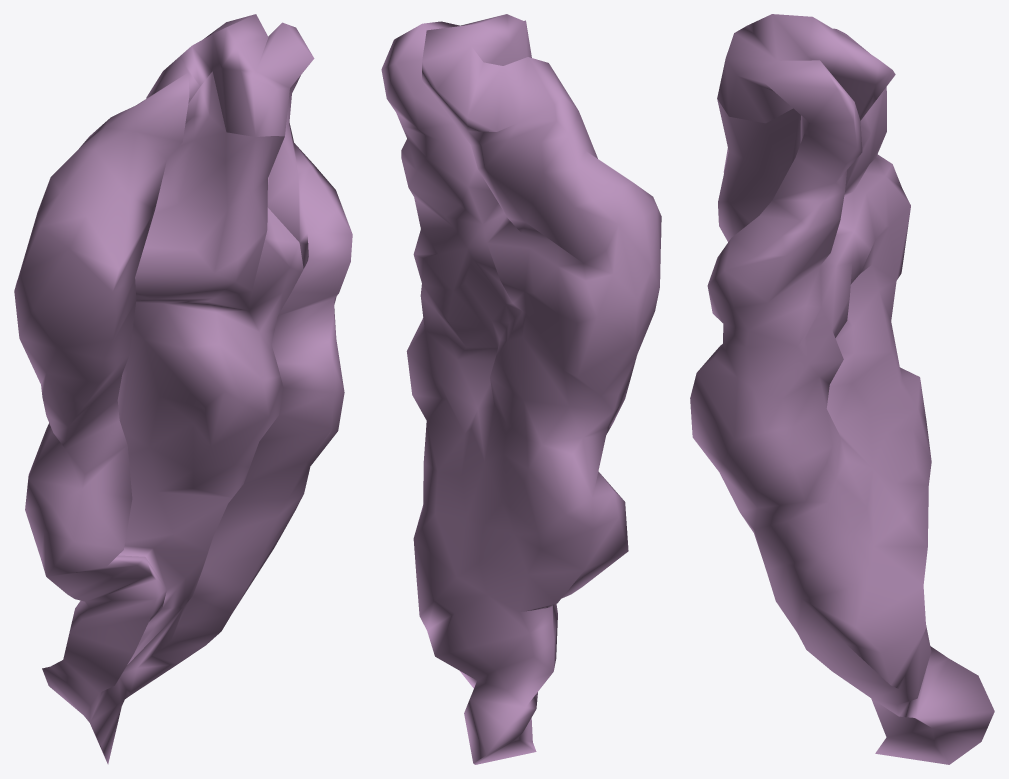
3 views of the same model, side by side, from view 1: azimuth 30°, elevation 25°; view 2: azimuth 150°, elevation 25°; view 3: azimuth 270°, elevation 25° (orthographic). The views are drawn at different scales.
Visible parts, largest first — view 1: 右侧枕颞外侧回; view 2: 右侧枕颞外侧回; view 3: 右侧枕颞外侧回.
Part boxes in pixels (bbox=[...]): 右侧枕颞外侧回: bbox=[14, 14, 352, 764]; 右侧枕颞外侧回: bbox=[381, 14, 661, 764]; 右侧枕颞外侧回: bbox=[690, 14, 994, 764].
Bounding box in the file's own units: 0.038 × 0.0918 × 0.0324.
